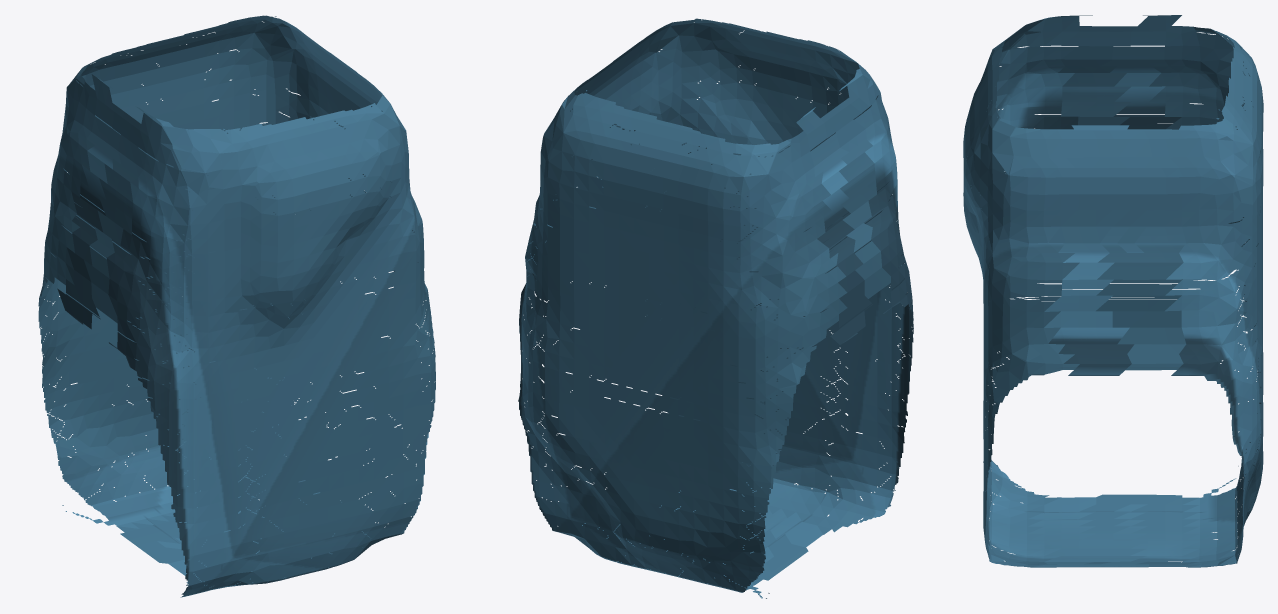
The picture shows the model from 3 angles, left to right: view 1: azimuth 30°, elevation 25°; view 2: azimuth 150°, elevation 25°; view 3: azimuth 270°, elevation 25°; orthographic projection.
Parts seen in each view (by area): view 1: reconstruction; view 2: reconstruction; view 3: reconstruction.
Part boxes in pixels (bbox=[...]): reconstruction: bbox=[38, 15, 435, 597]; reconstruction: bbox=[518, 18, 913, 598]; reconstruction: bbox=[963, 15, 1263, 567].
Bounding box in the file's own units: 0.7953 × 1 × 0.5723.
Materials: 1 (1 with a texture image).
